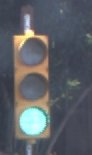Green: (7, 22, 65, 141)
